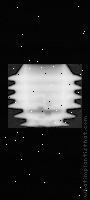Bicon: (8, 64, 82, 128)
